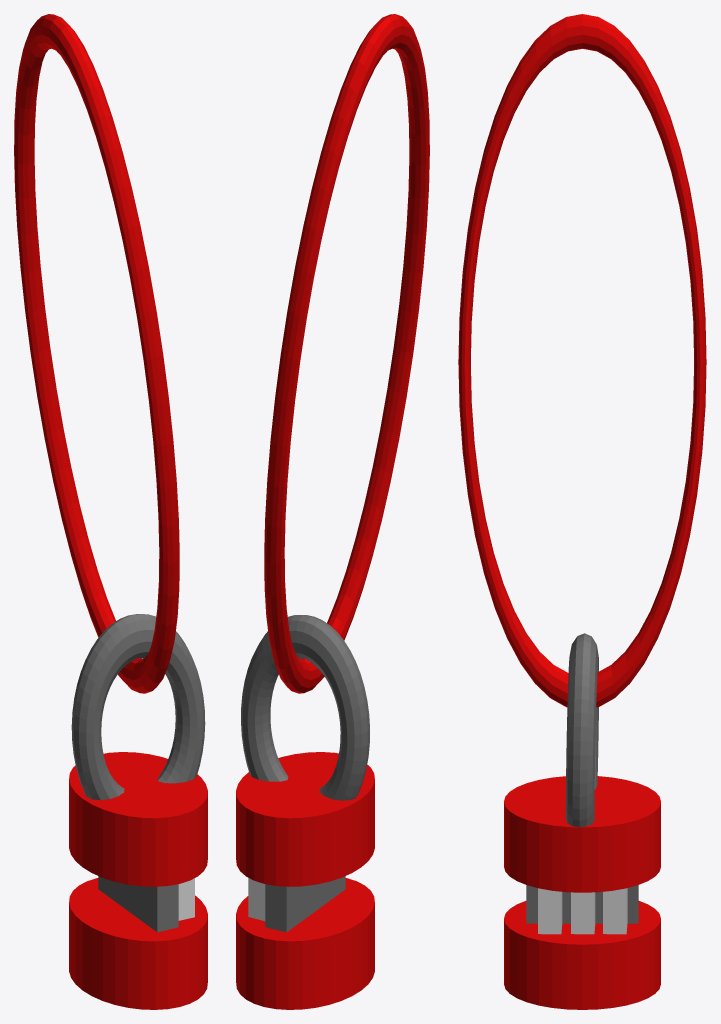
The model's file is redlock.fbx.
The picture shows the model from 3 angles, left to right: view 1: azimuth 30°, elevation 25°; view 2: azimuth 150°, elevation 25°; view 3: azimuth 270°, elevation 25°; orthographic projection. The views are drawn at different scales.
Parts seen in each view (by area): view 1: Torus.002, Cylinder, Cylinder.001, Torus.001, Cube.002, Cube.003; view 2: Torus.002, Cylinder, Cylinder.001, Torus.001, Cube.002, Cube.005; view 3: Torus.002, Cylinder, Cylinder.001, Torus.001, Cube.002, Cube.005, Cube.003, Cube.004.
Boxes of the visible parts, x1,y1,x2,y2 form: Torus.002: [14, 14, 179, 693]; Cylinder: [69, 752, 207, 886]; Cylinder.001: [69, 878, 207, 1009]; Torus.001: [71, 614, 205, 800]; Cube.002: [98, 876, 178, 932]; Cube.003: [178, 878, 194, 920]; Torus.002: [264, 14, 429, 693]; Cylinder: [236, 752, 374, 886]; Cylinder.001: [236, 878, 374, 1009]; Torus.001: [241, 615, 369, 800]; Cube.002: [265, 876, 345, 932]; Cube.005: [248, 878, 265, 921]; Torus.002: [458, 14, 706, 707]; Cylinder: [504, 776, 660, 892]; Cylinder.001: [504, 901, 660, 1009]; Torus.001: [565, 633, 598, 827]; Cube.002: [526, 885, 638, 923]; Cube.005: [603, 888, 627, 934]; Cube.003: [538, 888, 562, 934]; Cube.004: [571, 892, 595, 934].
Bounding box in the file's own units: 34.79 × 213 × 51.42.
